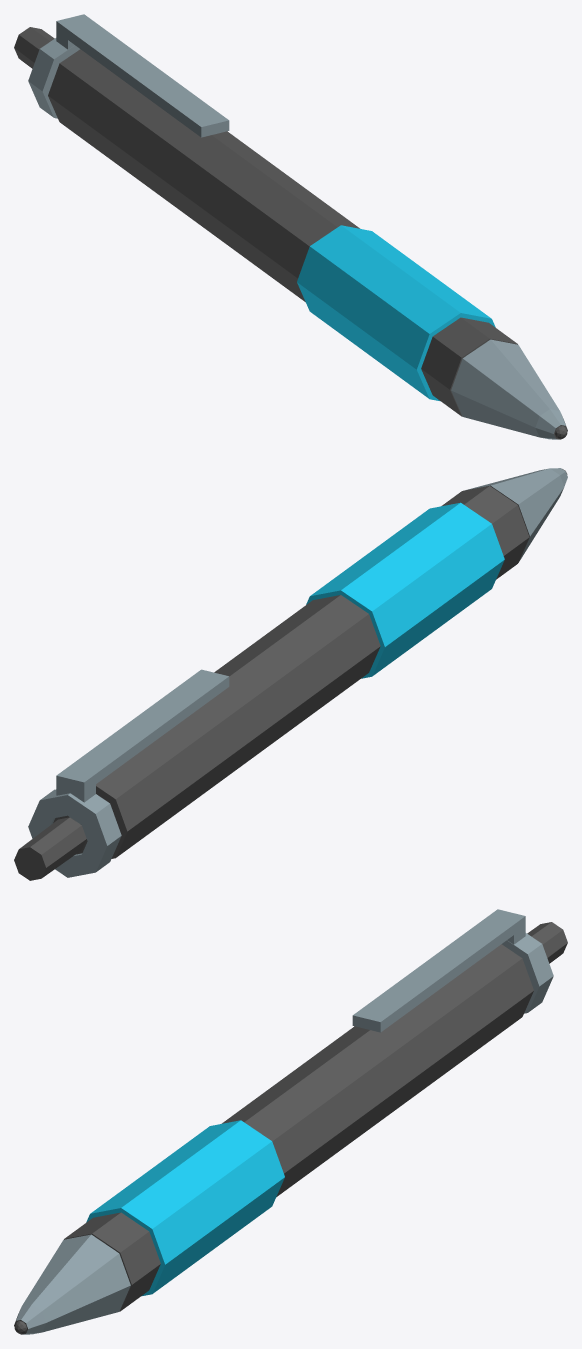
The model's file is Pen_01.gltf.
3 renders of one model, top to bottom at view 1: azimuth 30°, elevation 25°; view 2: azimuth 150°, elevation 25°; view 3: azimuth 330°, elevation 25°, orthographic.
Visible parts, largest first — view 1: node-0; view 2: node-0; view 3: node-0.
Boxes of the visible parts, x1,y1,x2,y2 form: node-0: (14,14,567,439); node-0: (14,468,567,880); node-0: (14,909,567,1334).
Size of the model in its own units: 0.9598 by 1.06 by 10.07.
